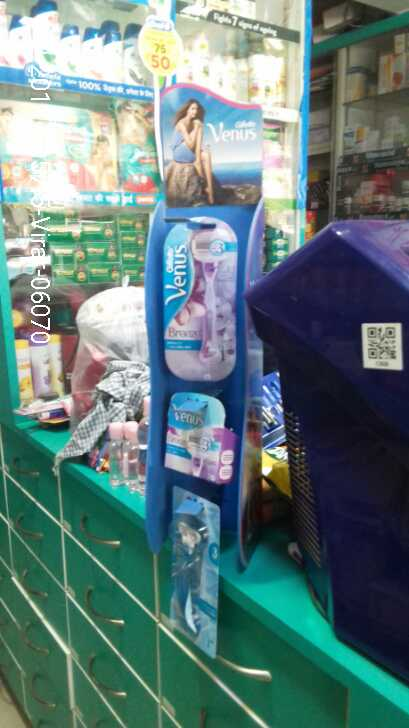beauty: (156, 215, 243, 387), (166, 487, 224, 650), (164, 390, 233, 485), (184, 27, 241, 101), (96, 27, 145, 91), (247, 49, 290, 106), (28, 1, 61, 72), (63, 20, 91, 76)
pharmacy: (59, 106, 121, 203), (1, 105, 61, 187), (114, 104, 159, 194)
